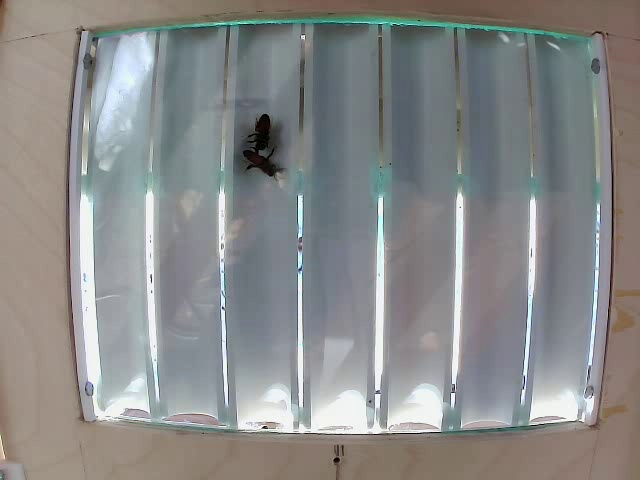bee: (238, 111, 282, 151), (244, 153, 282, 187)
